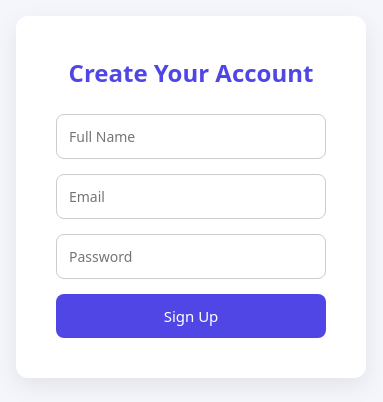
it: sends registration fields, prevents duplicate clicks, and opens login on success
Later steps or results of the test are not shown.
Type "Test User" into the field labelled "Full Name". click: (191, 136)
box: left=56, top=114, right=326, bottom=159
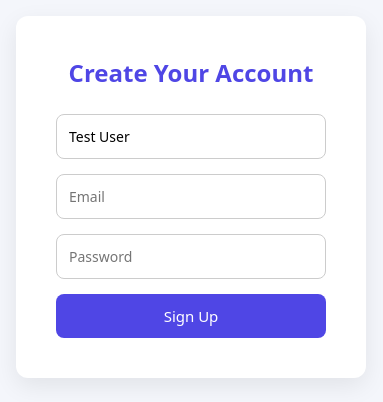
Type "test@example.com" into the field labelled "Email". click: (191, 196)
box: left=56, top=174, right=326, bottom=219
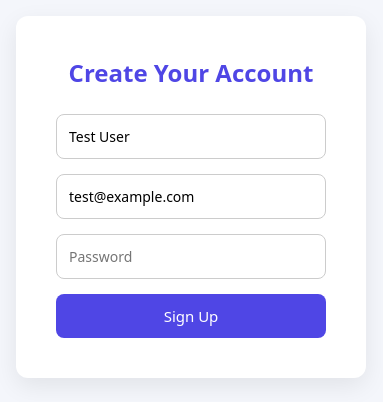
Type "test-password" into the password field labelled "Password". click: (191, 256)
box: left=56, top=234, right=326, bottom=279
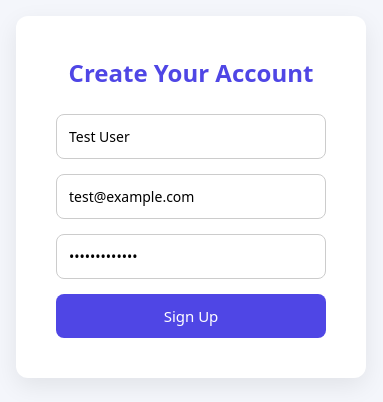
Click the button "Sign Up". click: (191, 316)
box: left=56, top=294, right=326, bottom=338
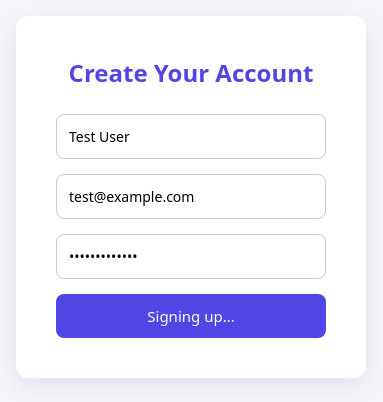
Expected: the button "Signing up..." is disabled, left=56, top=294, right=326, bottom=338
